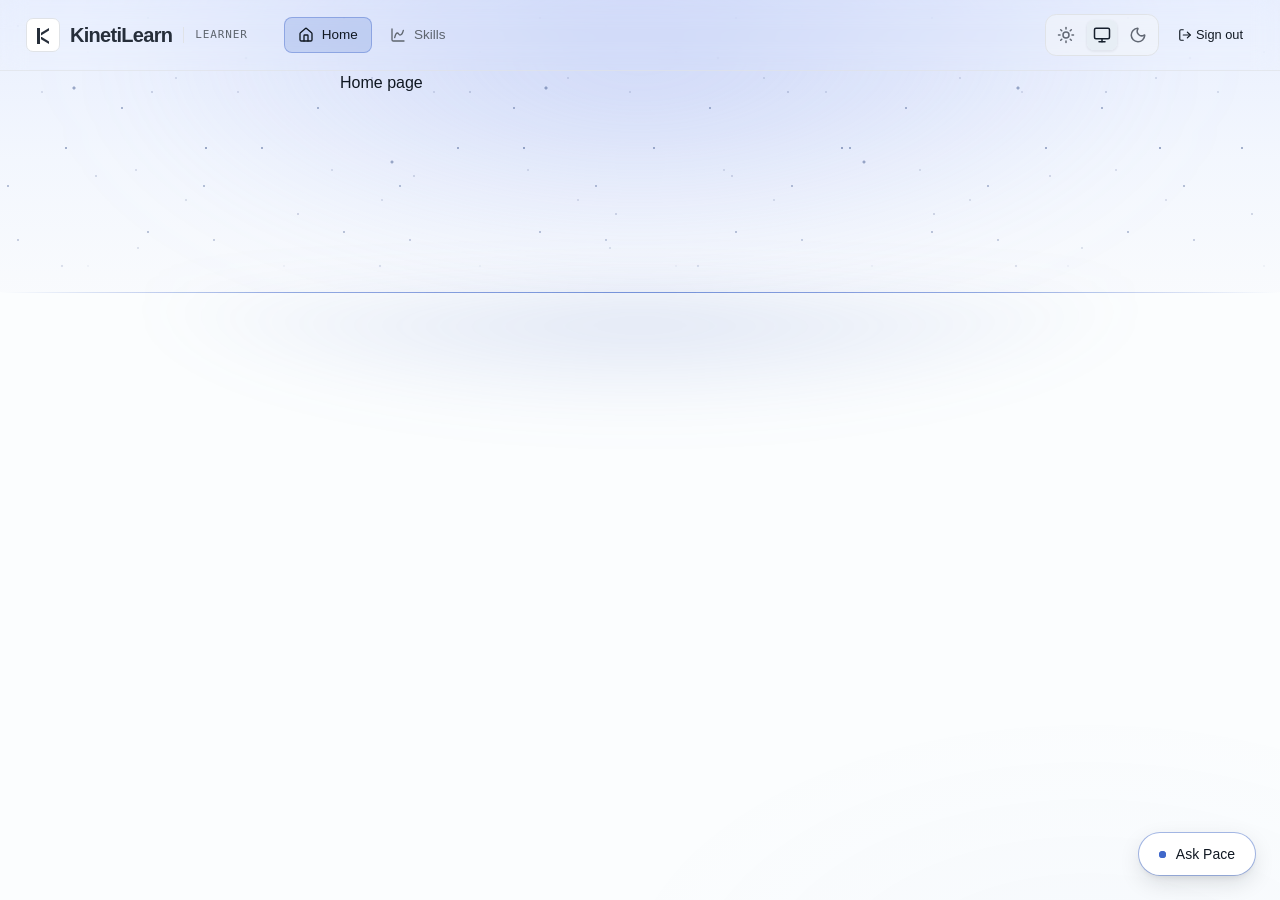
Test: ChatPanel › finishes an answer while the panel is closed and has it waiting on reopen
The width and height of the screenshot is (1280, 900).
Click the button "Ask Pace": (1197, 854) top-left (1138, 832), bottom-right (1256, 876)
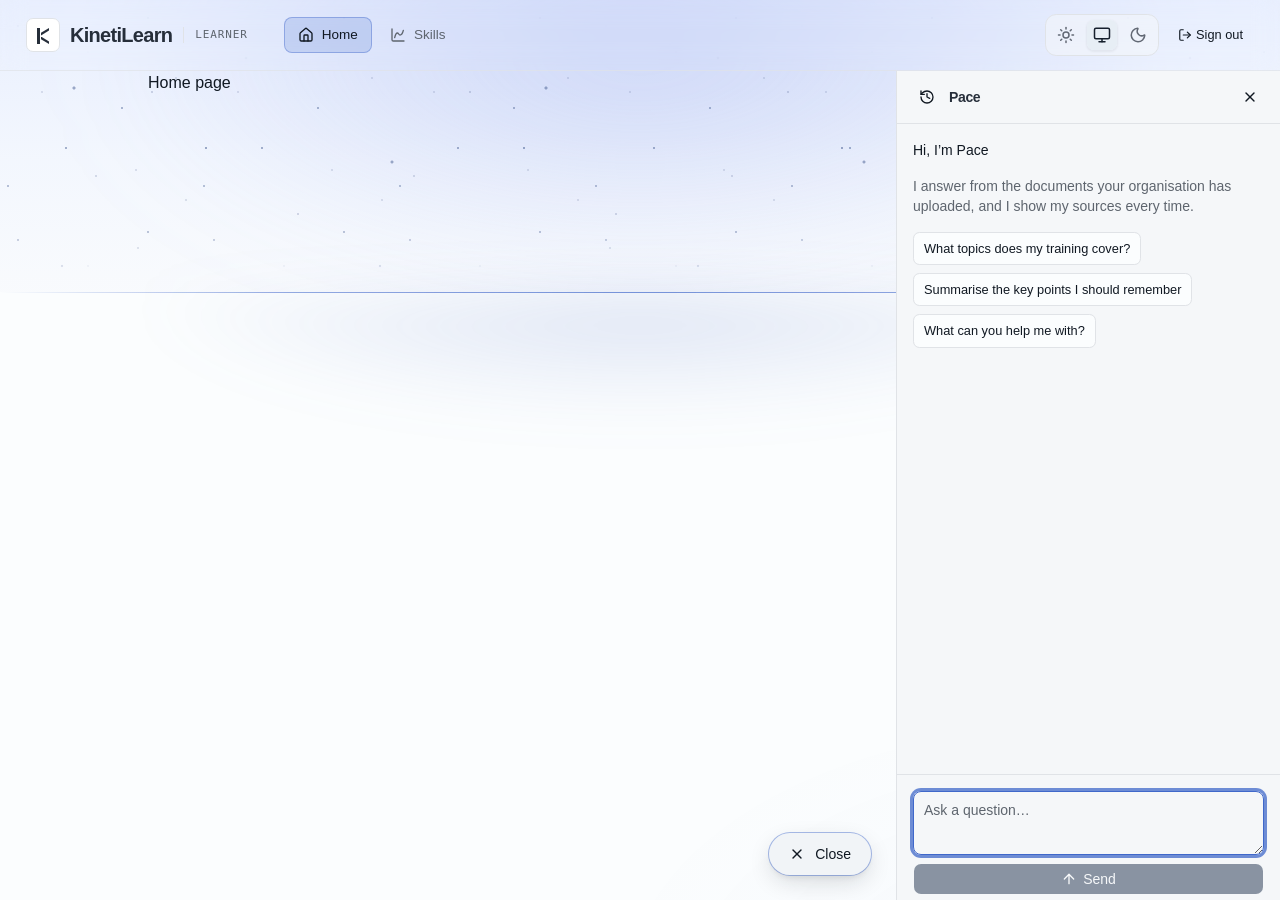
In the text box named "Your question": (1088, 823) top-left (913, 791), bottom-right (1264, 855), type "what is the leave policy?"
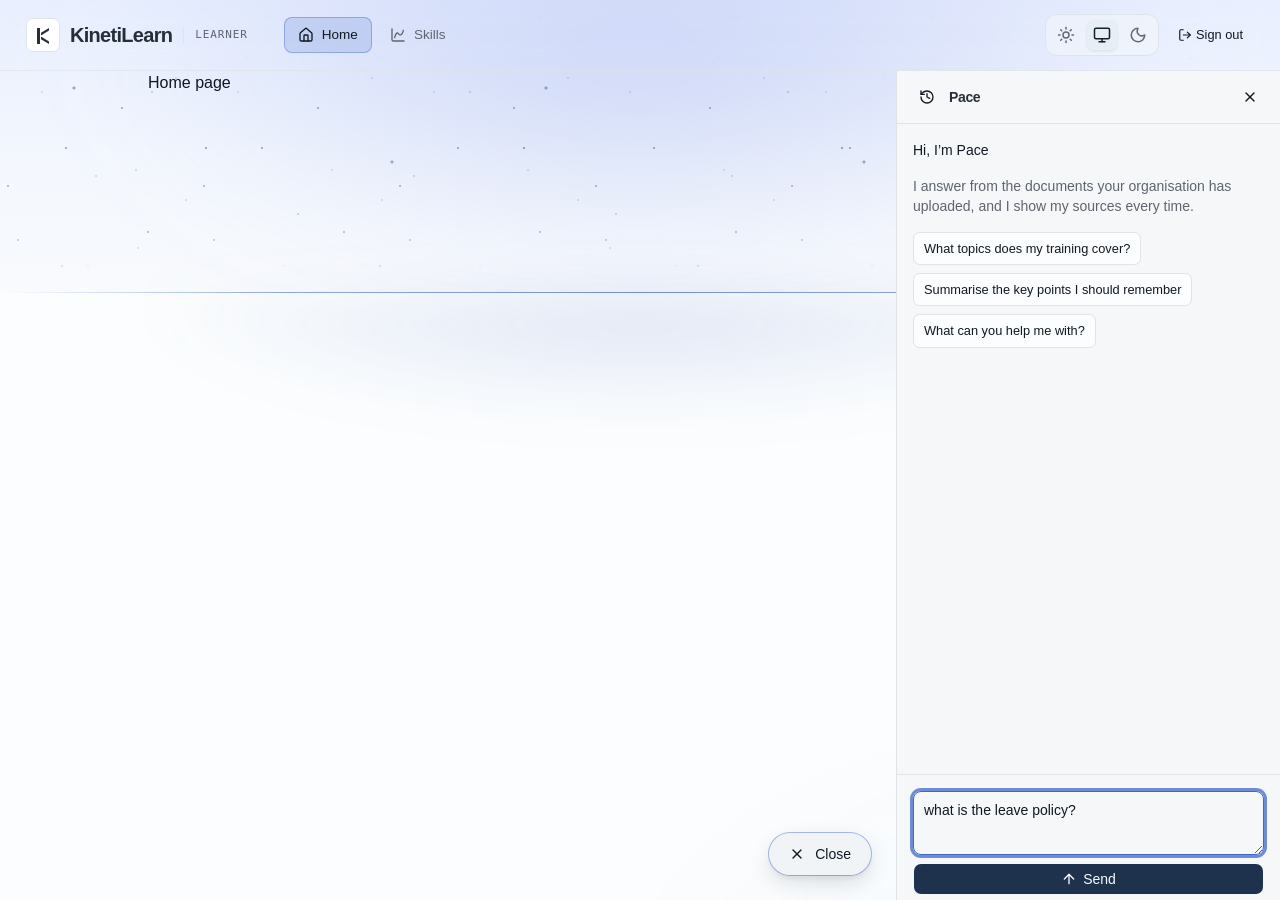
Click the button "Send": (1088, 879) top-left (913, 863), bottom-right (1264, 895)
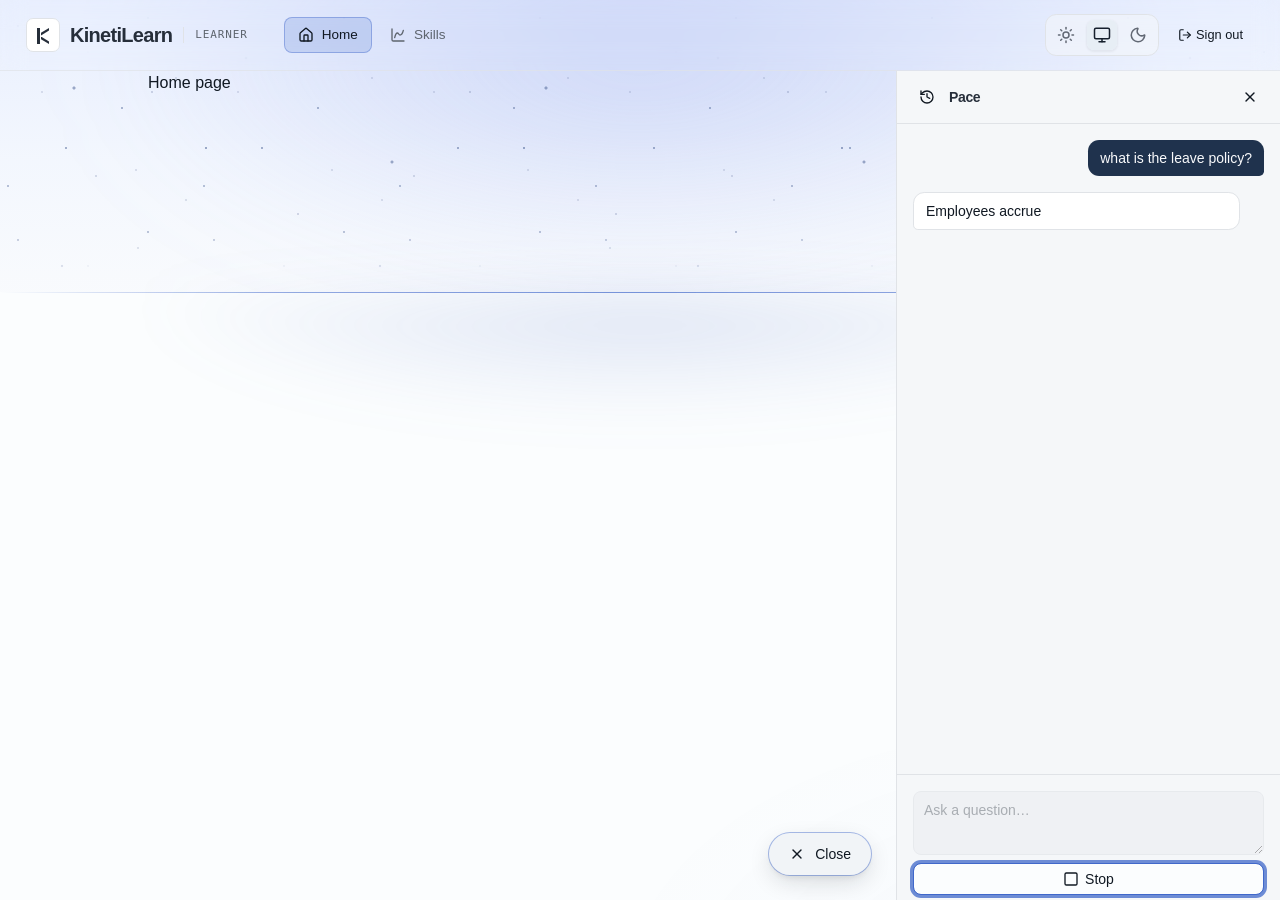
Expected: the text "Employees accrue" is shown, top-left (926, 203), bottom-right (1045, 219)
Click the button named "Close chat": (1250, 97) top-left (1236, 83), bottom-right (1264, 111)
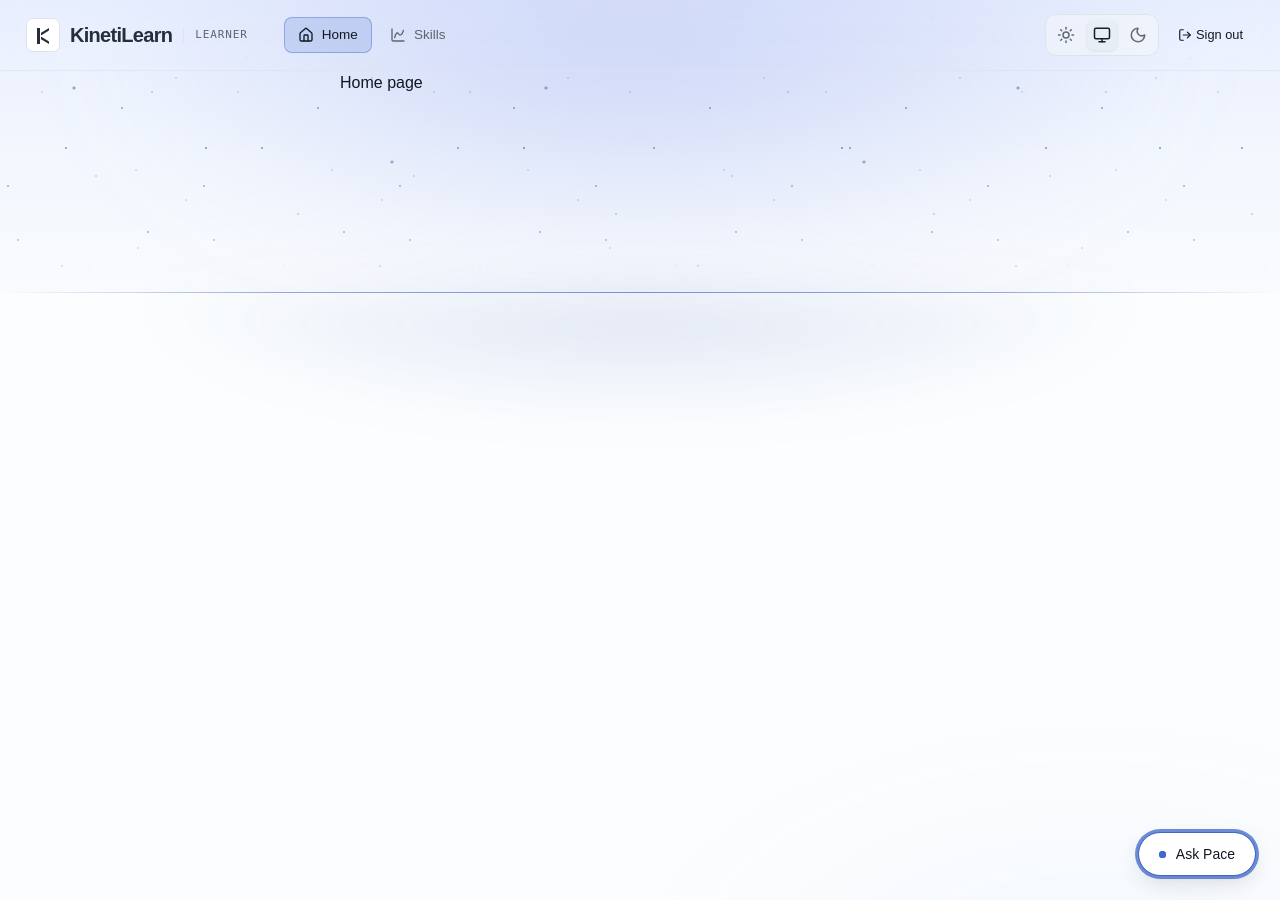
Click the button "Ask Pace": (1197, 854) top-left (1138, 832), bottom-right (1256, 876)
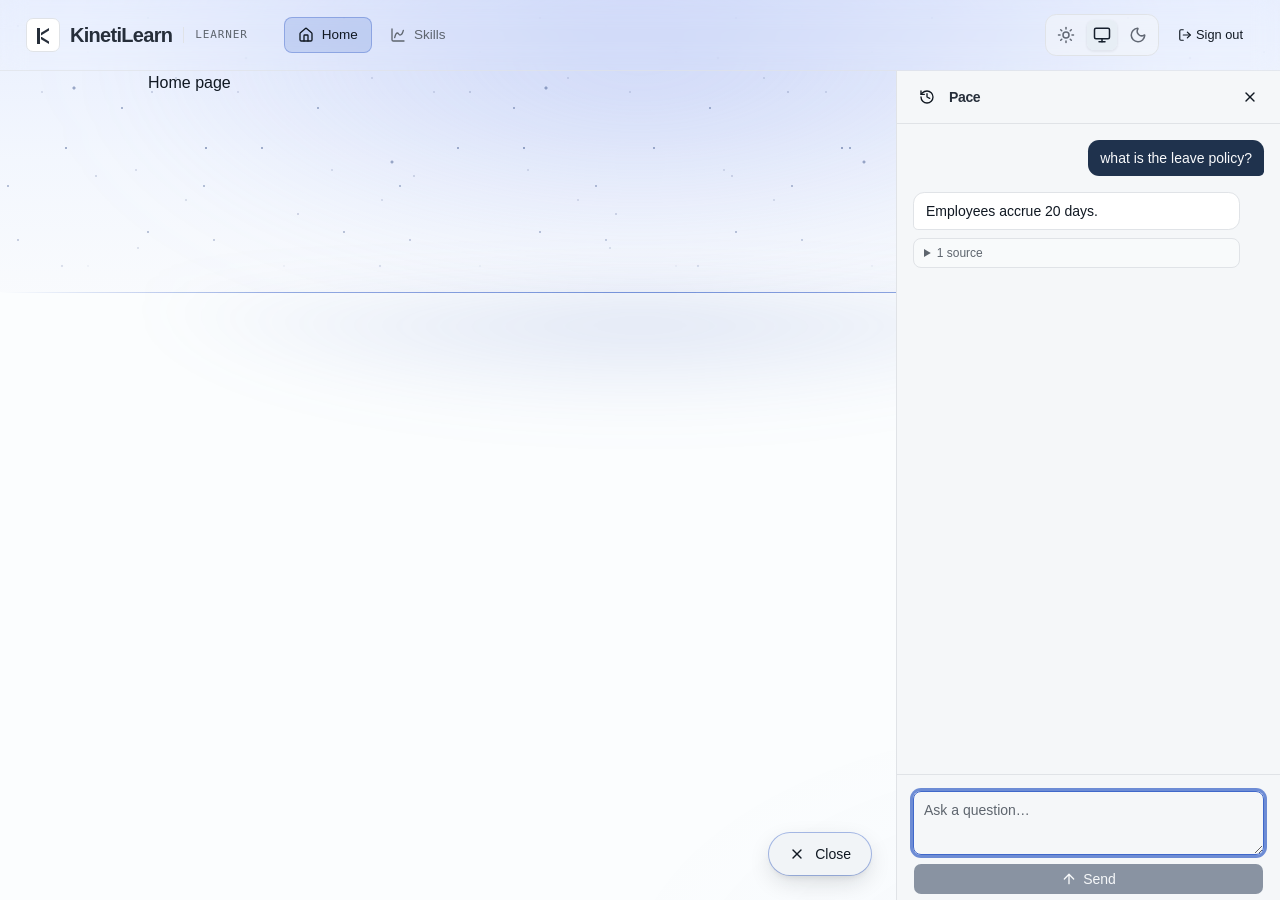
Expected: the text "Employees accrue 20 days." is shown, top-left (926, 203), bottom-right (1098, 219)
Expected: the heading "1 source" is shown, top-left (937, 246), bottom-right (983, 260)
